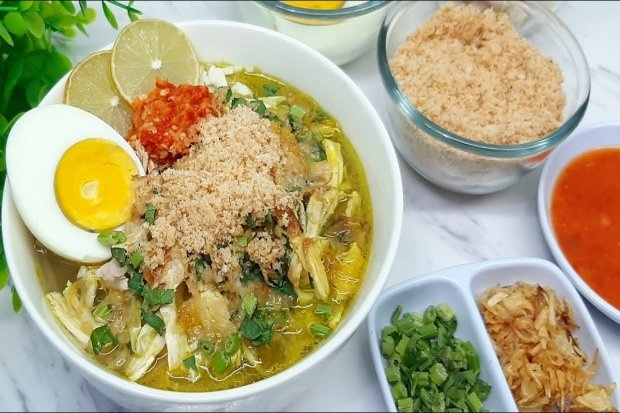soto: (9, 15, 406, 403)
